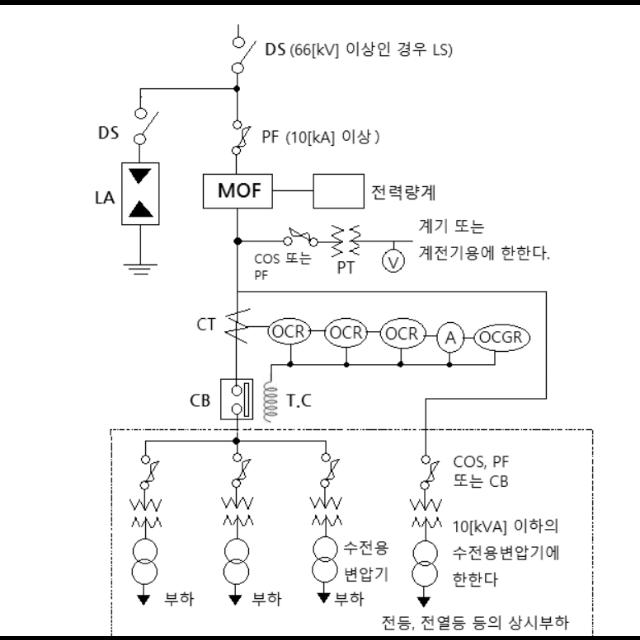A: (436, 321, 464, 353)
CB: (220, 379, 252, 419)
CT: (226, 307, 250, 343)
GND: (122, 261, 160, 277)
LA: (122, 162, 158, 224)
MOF: (203, 172, 273, 208)
PF: (140, 454, 160, 490), (232, 119, 252, 153), (283, 226, 317, 246), (232, 452, 250, 486), (421, 454, 439, 488), (322, 452, 338, 486)
PT: (221, 496, 255, 526), (130, 499, 163, 527), (311, 497, 343, 525), (411, 499, 442, 527), (332, 225, 360, 255)
V: (382, 248, 404, 272)
ds: (134, 106, 158, 144), (232, 36, 256, 72)
